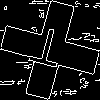T: (25, 25, 67, 77)
